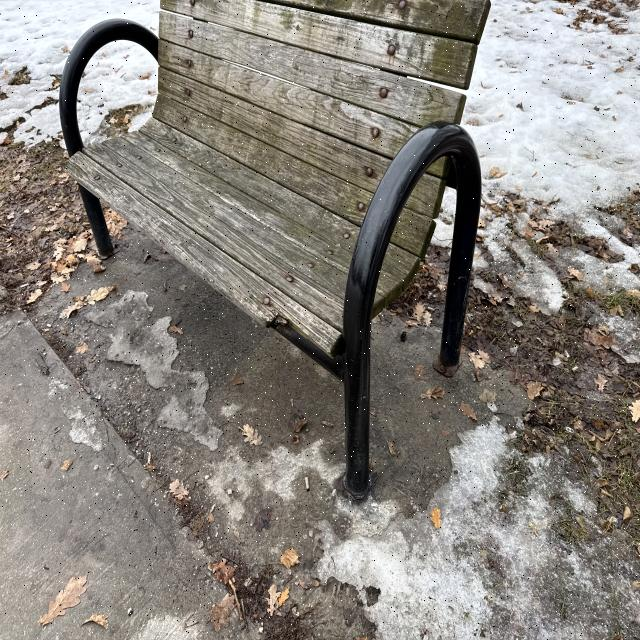Bench: (167, 10, 493, 472)
